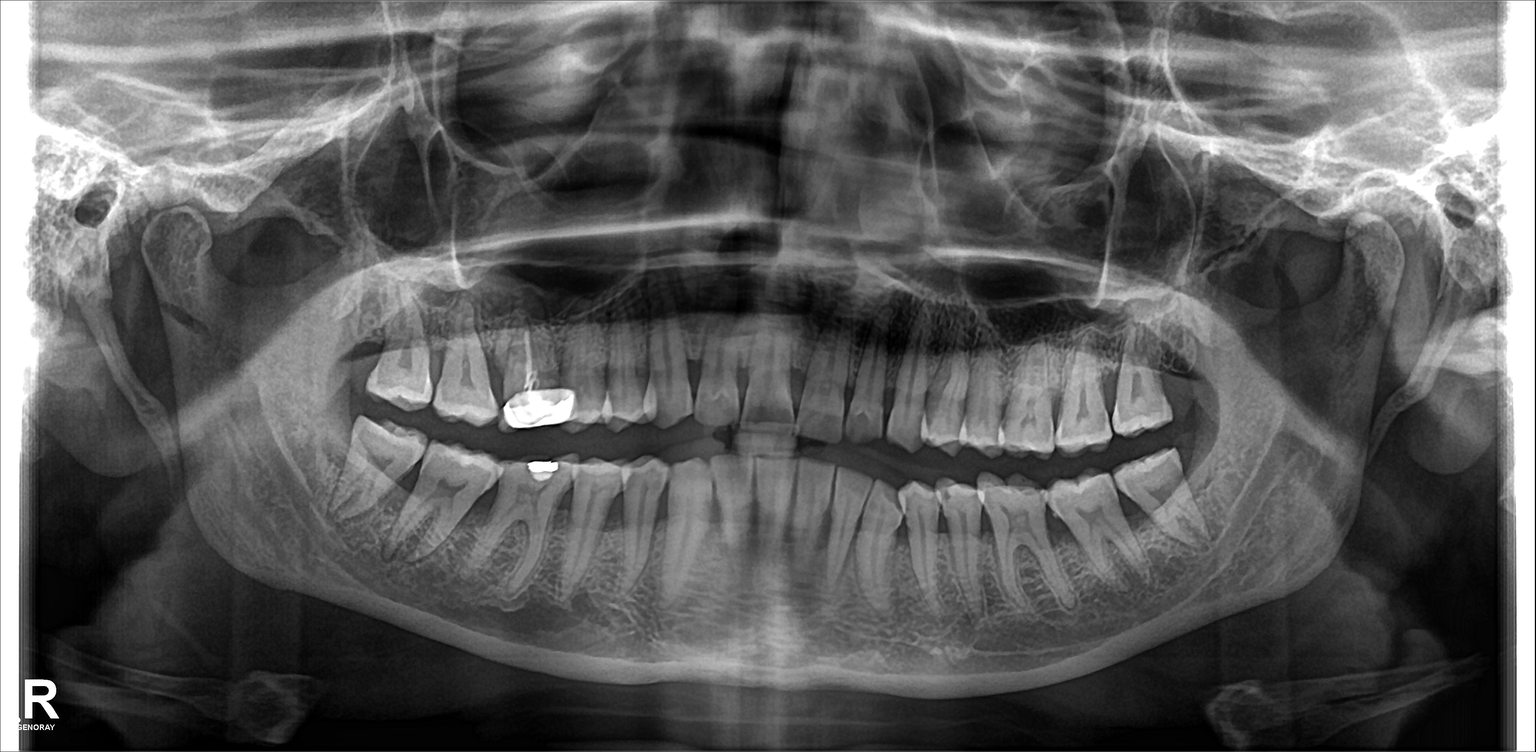Endodontically Treated Tooth: (503, 328, 574, 425)
Missing Tooth: (333, 300, 384, 404), (1156, 337, 1211, 422)
